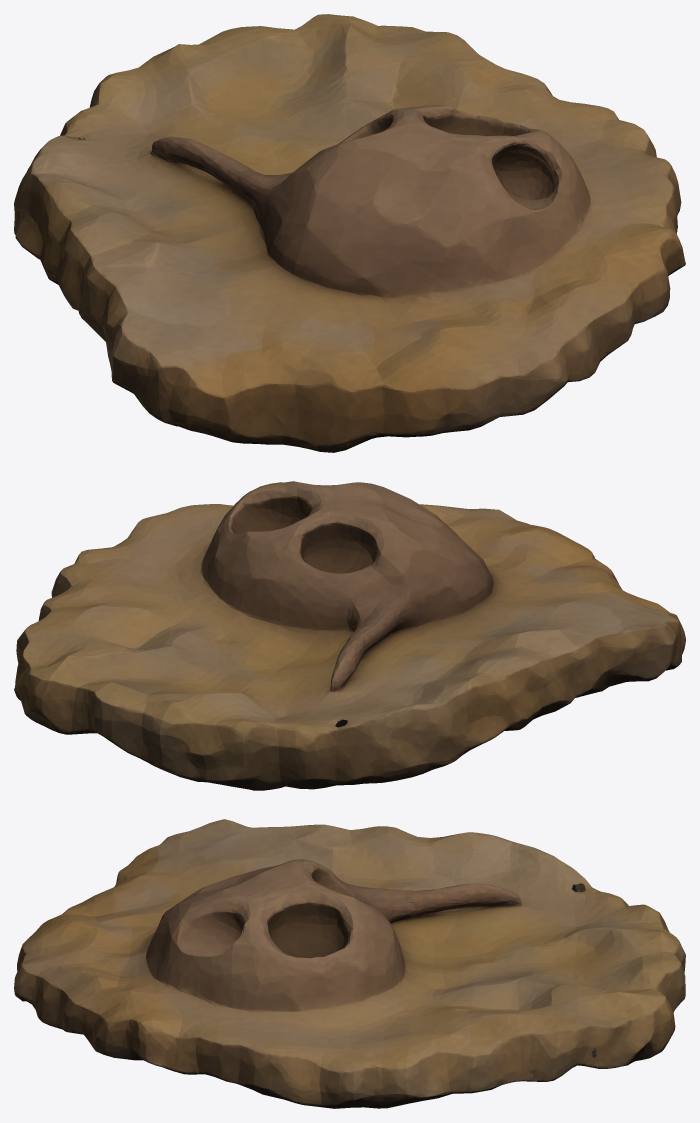
3 views of the same model, one above another, from view 1: azimuth 30°, elevation 25°; view 2: azimuth 150°, elevation 25°; view 3: azimuth 270°, elevation 25° (orthographic). The views are drawn at different scales.
Visible parts, largest first — view 1: world; view 2: world; view 3: world.
Part boxes in pixels (x1,y1,x2,y2): world: (14, 14, 685, 452); world: (14, 481, 685, 790); world: (14, 819, 685, 1108).
Size of the model in its own units: 0.032 by 0.00897 by 0.035.
Materials: 2 (1 with a texture image).
